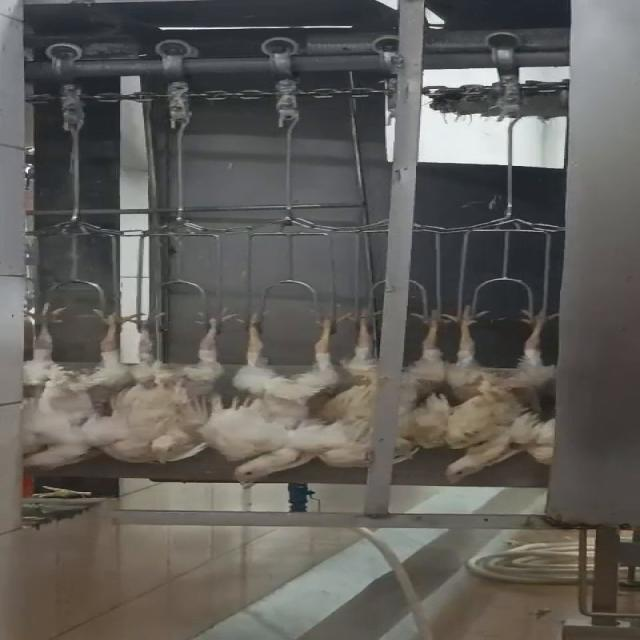chicken: (201, 306, 363, 490), (427, 304, 573, 483), (5, 306, 155, 475), (318, 302, 448, 468), (116, 301, 240, 466)
